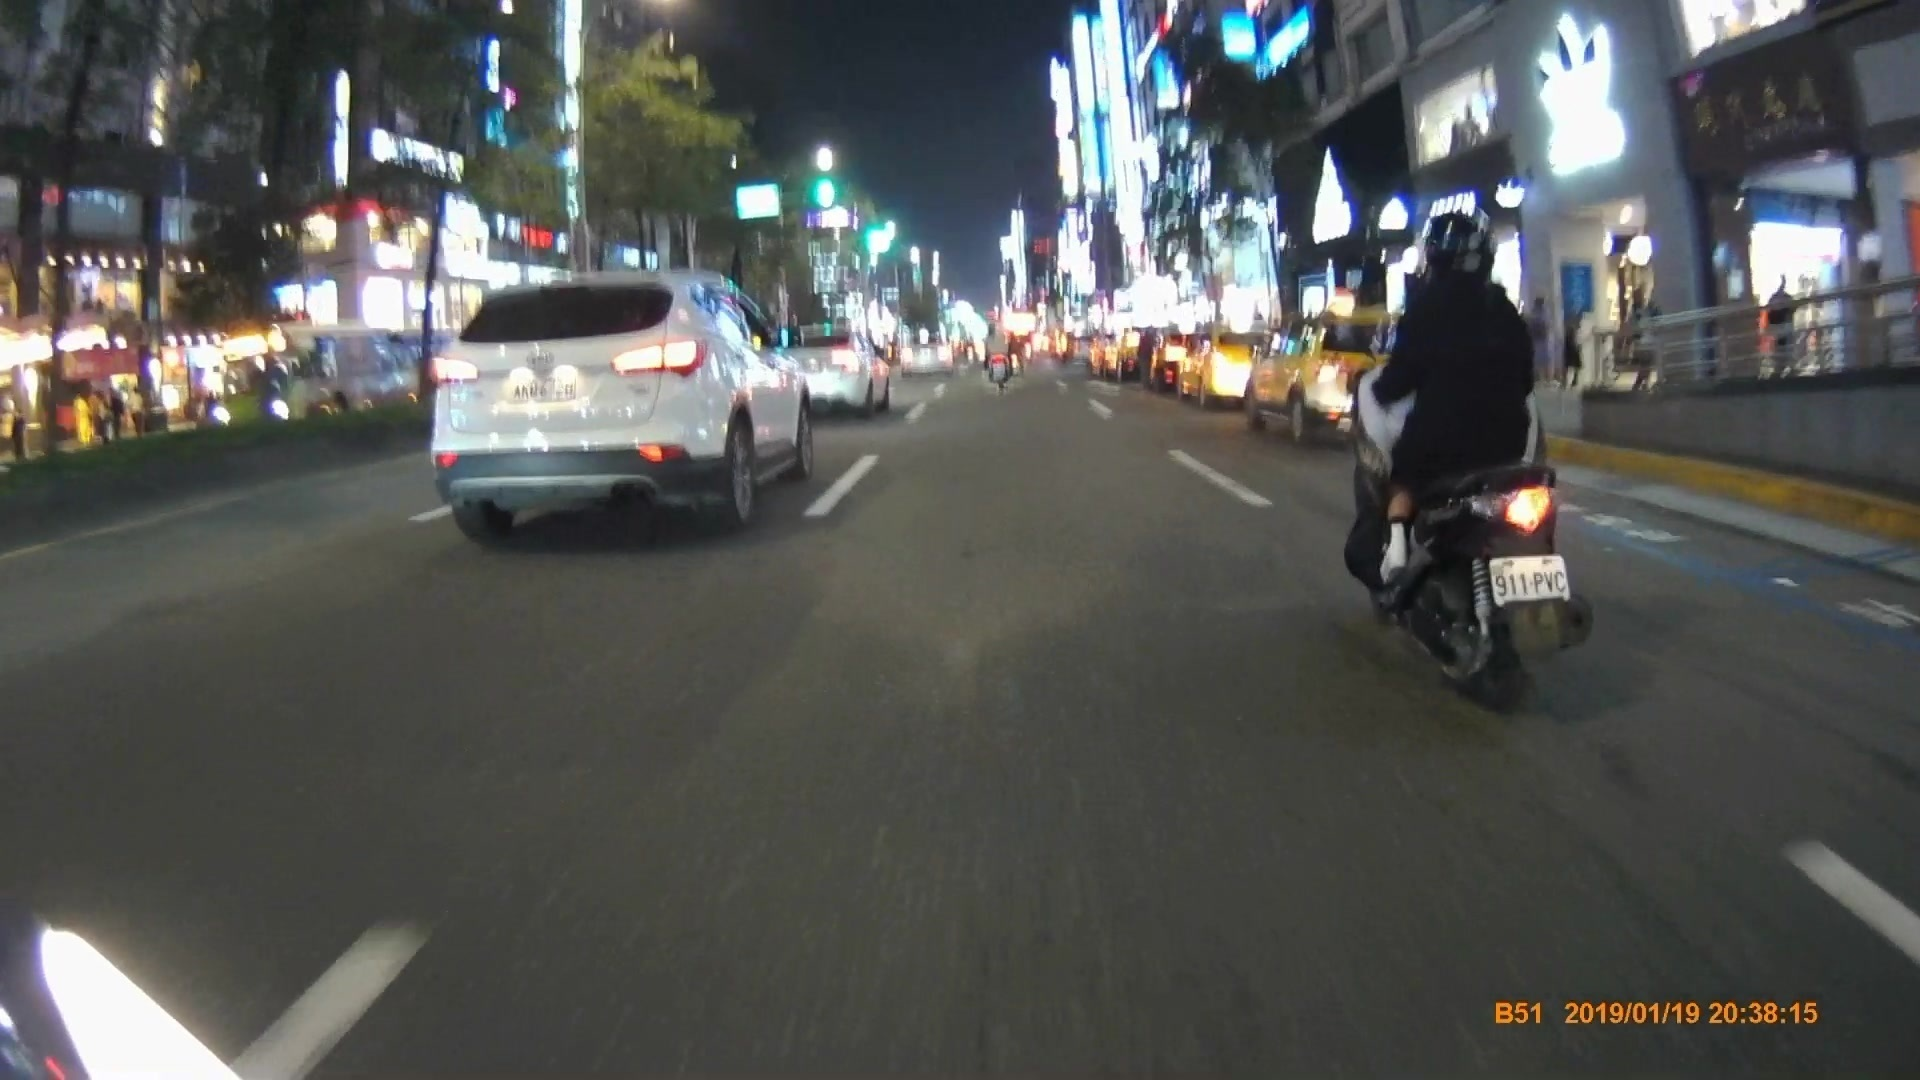License_plate: (1487, 556, 1577, 602), (512, 376, 586, 409)
